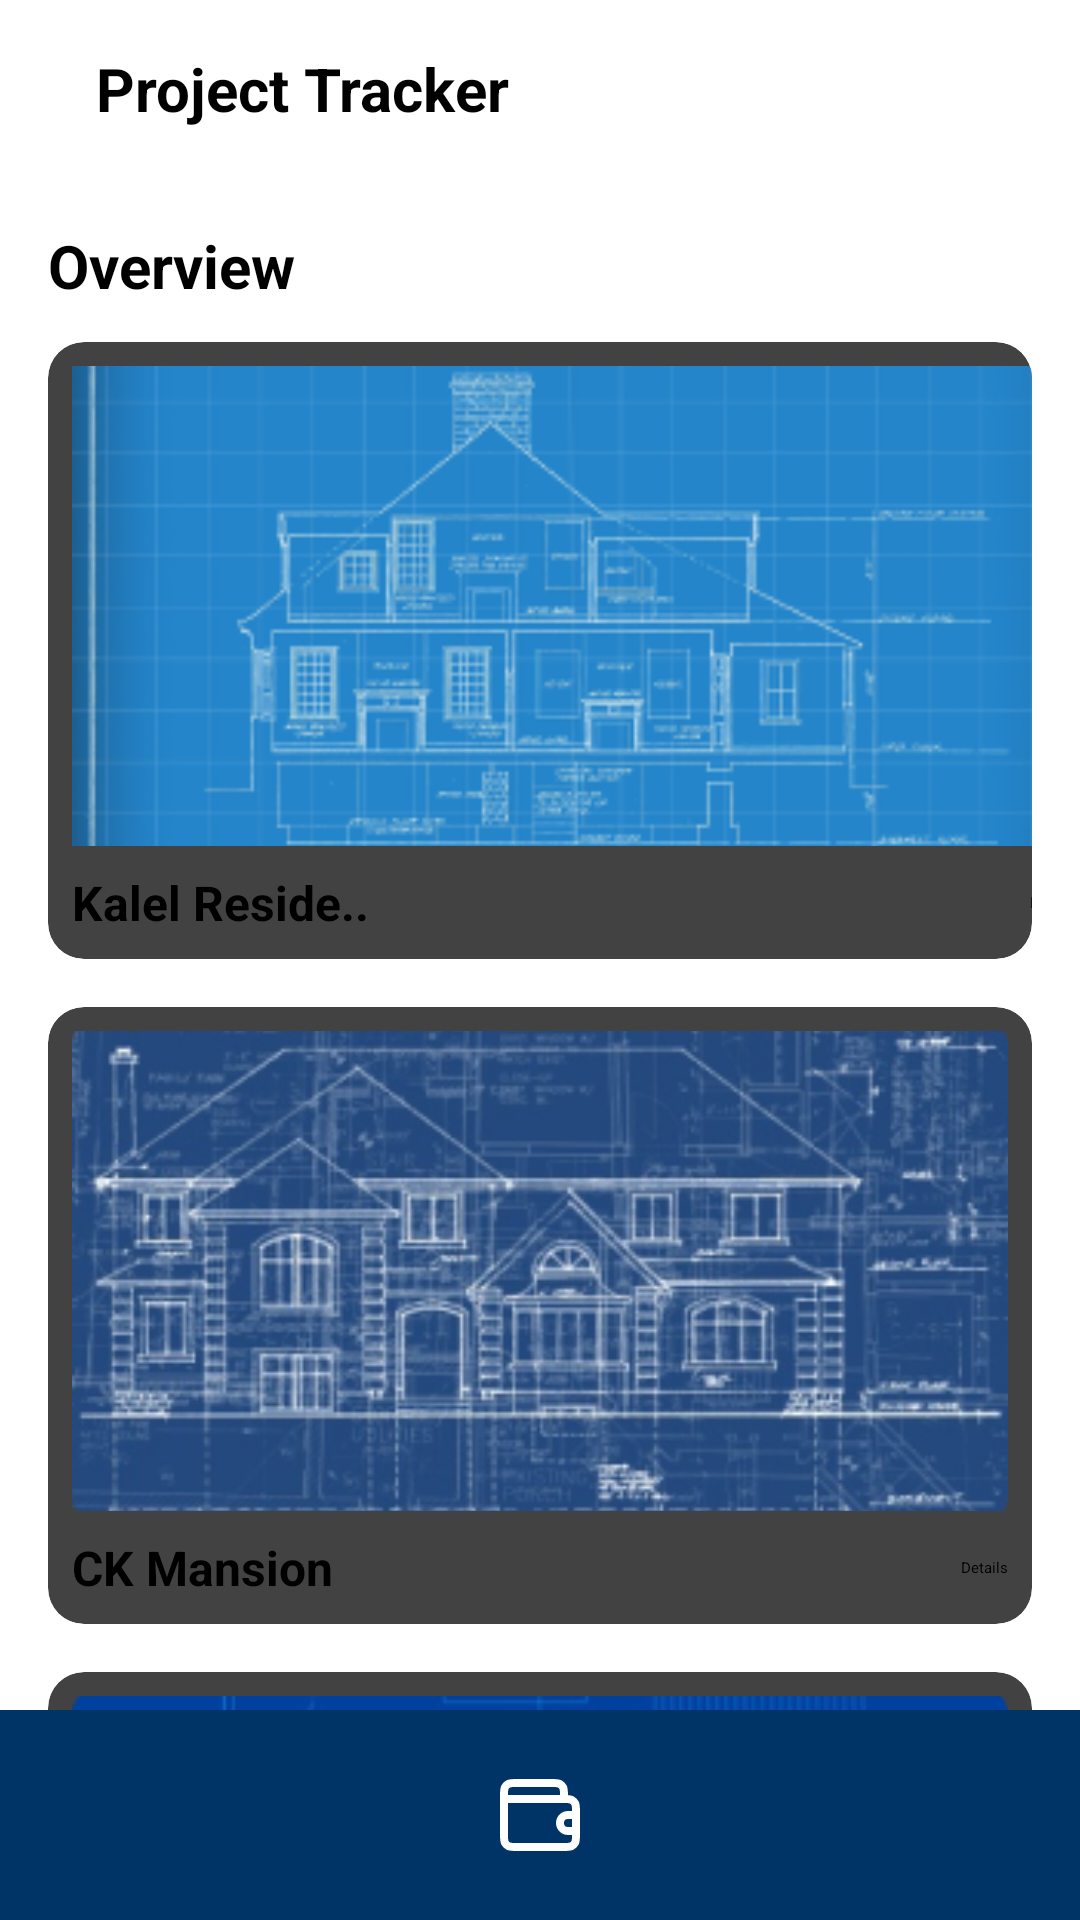

Locate icon controls on the screen. Image size 1080 x 1920, boxes as (x1, y1, x2, y2).
wallet: (500, 1779, 580, 1851)
